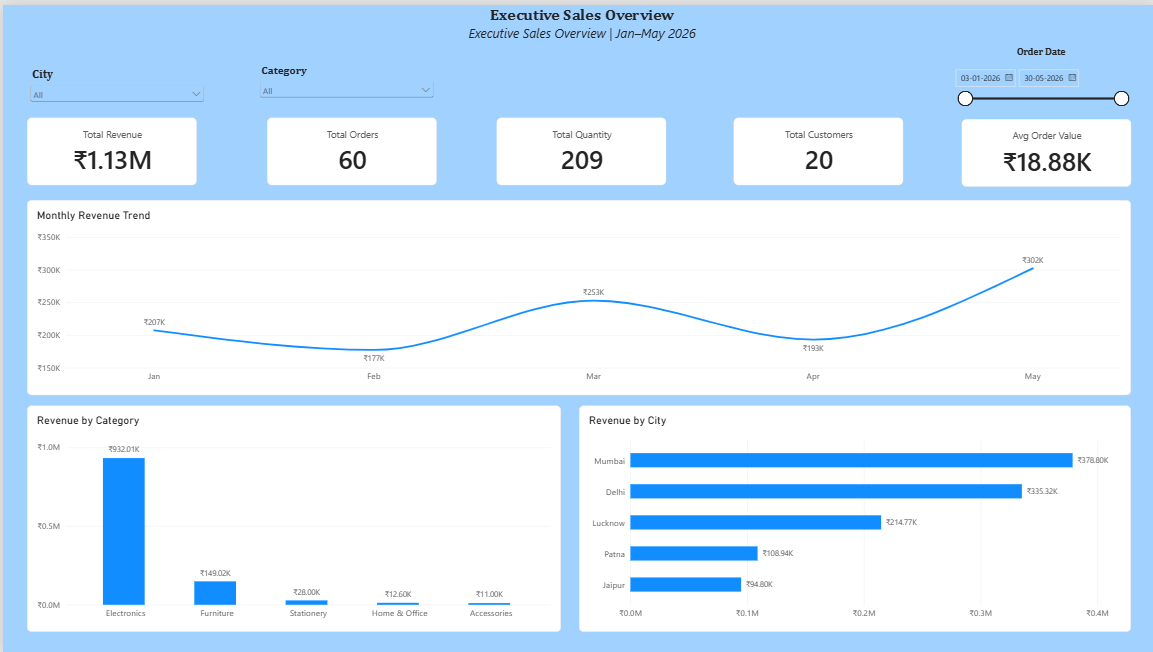

The page's visual inventory and layout, read from the dashboard file:
{"tool":"powerbi","page":{"name":"Executive Overview","canvas":[1920,1080],"ordinal":0},"visuals":[{"type":"textbox","box":[10,0,1910,66.7],"z":0},{"type":"cardVisual","fields":{"Data":["sales.Total Revenue"]},"box":[40,187.5,283.3,113.3],"z":1000},{"type":"cardVisual","fields":{"Data":["sales.Total Orders"]},"box":[440,187.5,283.3,113.3],"z":2000},{"type":"cardVisual","fields":{"Data":["sales.Total Quantity"]},"box":[822.5,187.5,283.3,113.3],"z":3000},{"type":"cardVisual","fields":{"Data":["sales.Total Customers"]},"box":[1217.5,187.5,283.3,113.3],"z":4000},{"type":"cardVisual","fields":{"Data":["sales.Avg Order Value"]},"box":[1597.5,190,283.3,113.3],"z":5000},{"type":"lineChart","title":"Monthly Revenue Trend","fields":{"Category":["DateTable.Month Name"],"Y":["sales.Total Revenue"]},"box":[40,325,1840,325],"z":6000},{"type":"clusteredColumnChart","title":"Revenue by Category","fields":{"Category":["products.category"],"Y":["sales.Total Revenue"]},"box":[40,667.5,890,377.5],"z":7000},{"type":"clusteredBarChart","title":"Revenue by City","fields":{"Category":["customers.city"],"Y":["sales.Total Revenue"]},"box":[960,667.5,920,377.5],"z":8000},{"type":"slicer","title":"Order Date","fields":{"Values":["sales.order_date"]},"box":[1579.8,66.3,300,105.8],"z":9000},{"type":"slicer","fields":{"Values":["customers.city"]},"box":[40,102.5,300,70],"z":10000},{"type":"slicer","fields":{"Values":["products.category"]},"box":[422.5,97.5,300,75],"z":11000}]}

Visuals, with their boxes in screenshot pixels (x1, y1, x2, y2), scaled from the page's 1920x1080 canvas onto the 1153x652 screenshot:
textbox: 6/0/1152/40
cardVisual - sales.Total Revenue: 24/113/194/182
cardVisual - sales.Total Orders: 264/113/434/182
cardVisual - sales.Total Quantity: 494/113/664/182
cardVisual - sales.Total Customers: 731/113/901/182
cardVisual - sales.Avg Order Value: 959/115/1129/183
"Monthly Revenue Trend" lineChart: 24/196/1129/392
"Revenue by Category" clusteredColumnChart: 24/403/558/631
"Revenue by City" clusteredBarChart: 576/403/1129/631
"Order Date" slicer: 949/40/1129/104
slicer - customers.city: 24/62/204/104
slicer - products.category: 254/59/434/104
